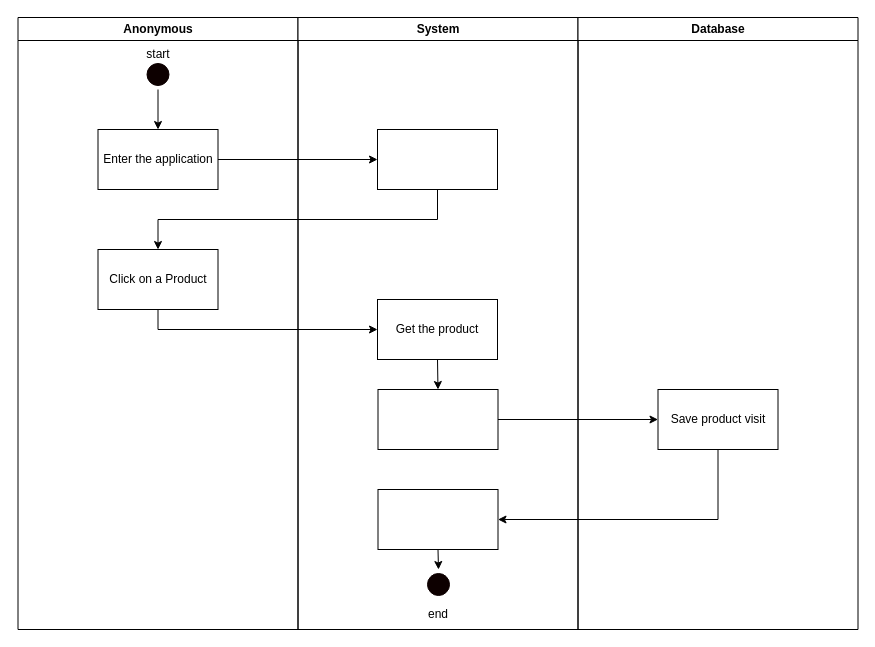
Image size: 875x647. Some labels were removed from this diagram. The shapes that lost their labels are listed below. From the top down, each one's centre as x and y in pixels, then its label:
point 437,159: Create cookie token_id
point 437,419: Receive the POST request with information of the visit
point 437,519: show Product
